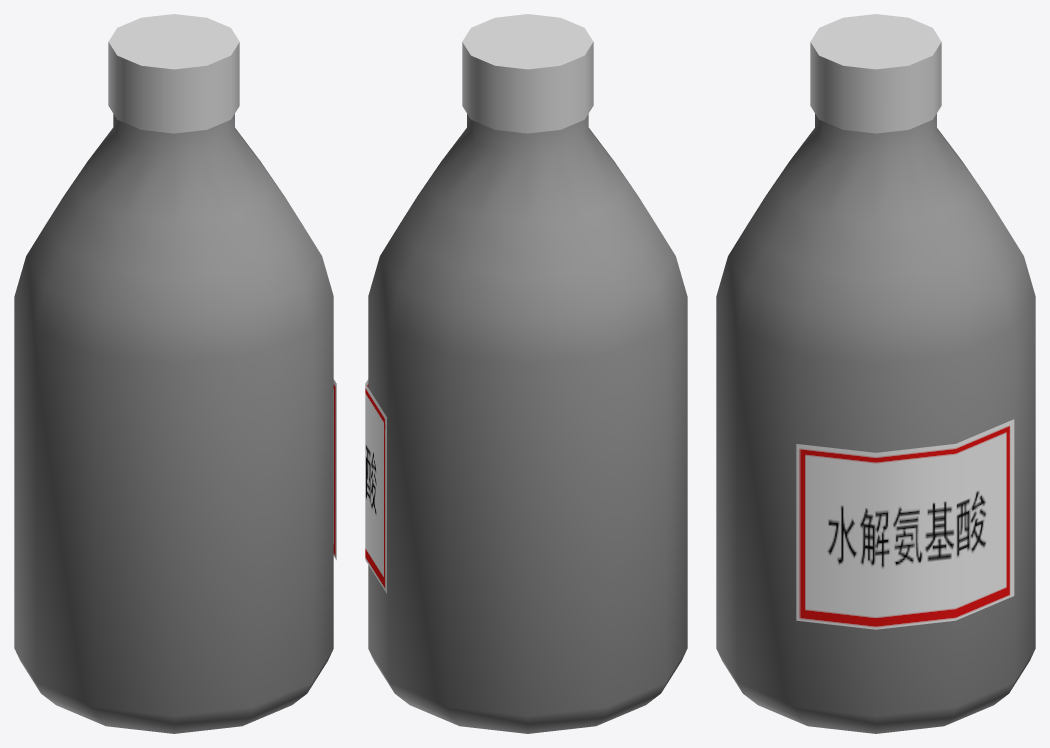
Rendered from SM_水解氨基酸.FBX.
3 views of the same model, side by side, from view 1: azimuth 30°, elevation 25°; view 2: azimuth 150°, elevation 25°; view 3: azimuth 270°, elevation 25° (orthographic).
Visible parts, largest first — view 1: SM_水解氨基酸_瓶体, SM_水解氨基酸_盖子; view 2: SM_水解氨基酸_瓶体, SM_水解氨基酸_盖子; view 3: SM_水解氨基酸_瓶体, SM_水解氨基酸_盖子.
Part boxes in pixels (x1,y1,x2,y2): SM_水解氨基酸_瓶体: [14, 114, 336, 733]; SM_水解氨基酸_盖子: [108, 14, 239, 133]; SM_水解氨基酸_瓶体: [365, 114, 687, 733]; SM_水解氨基酸_盖子: [462, 14, 593, 133]; SM_水解氨基酸_瓶体: [716, 113, 1035, 733]; SM_水解氨基酸_盖子: [810, 14, 941, 133].
Bounding box in the file's own units: 65.18 × 143 × 64.54.
